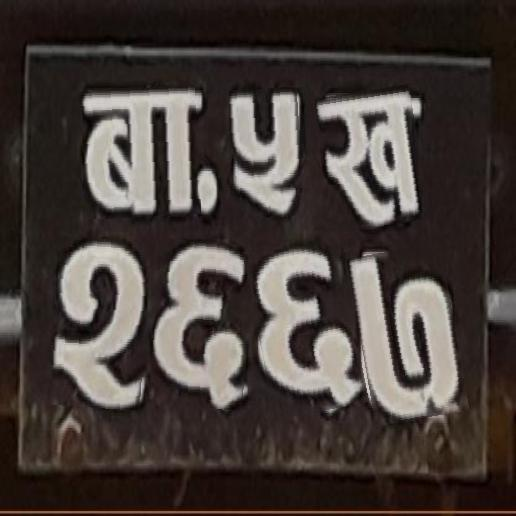2: (53, 238, 149, 409)
5: (232, 87, 304, 218)
6: (252, 245, 362, 417), (151, 240, 253, 410)
7: (353, 247, 462, 424)
ba: (83, 87, 200, 218)
kha: (319, 88, 425, 230)
